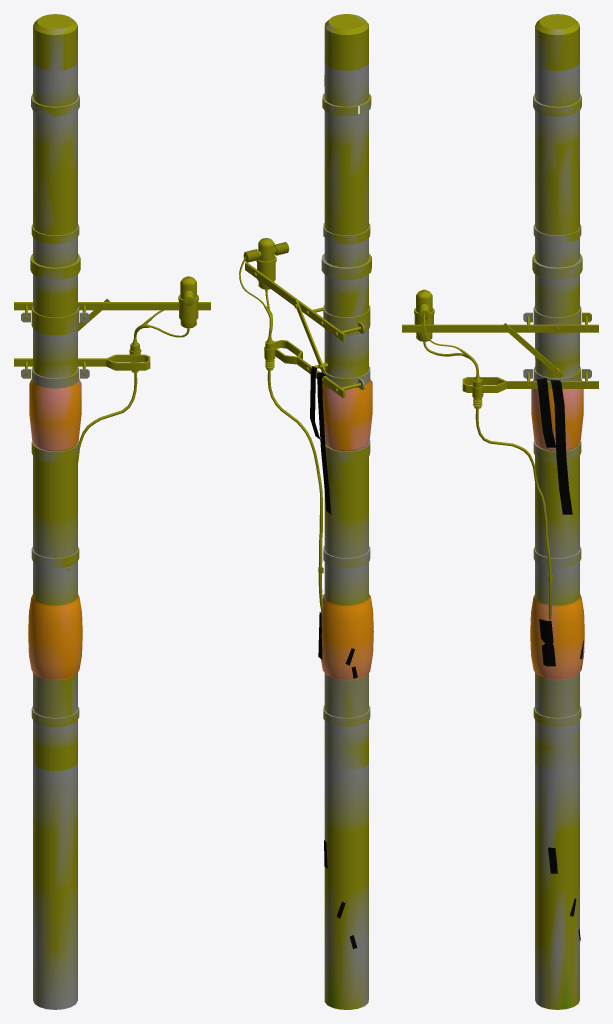
File: SM_ENV_LKNVLD_UtilityPole_B_Lod1.gltf
The picture shows the model from 3 angles, left to right: view 1: azimuth 90°, elevation 25°; view 2: azimuth 210°, elevation 25°; view 3: azimuth 270°, elevation 25°; orthographic projection.
Visible parts, largest first — view 1: SM_ENV_LKNVLD_UtilityPole_B_Lod1; view 2: SM_ENV_LKNVLD_UtilityPole_B_Lod1; view 3: SM_ENV_LKNVLD_UtilityPole_B_Lod1.
Boxes of the visible parts, left/top/right/bottom form: SM_ENV_LKNVLD_UtilityPole_B_Lod1: left=14, top=14, right=210, bottom=1009; SM_ENV_LKNVLD_UtilityPole_B_Lod1: left=239, top=14, right=373, bottom=1009; SM_ENV_LKNVLD_UtilityPole_B_Lod1: left=402, top=14, right=598, bottom=1009.
Bounding box in the file's own units: 0.8265 × 11.72 × 2.13.
